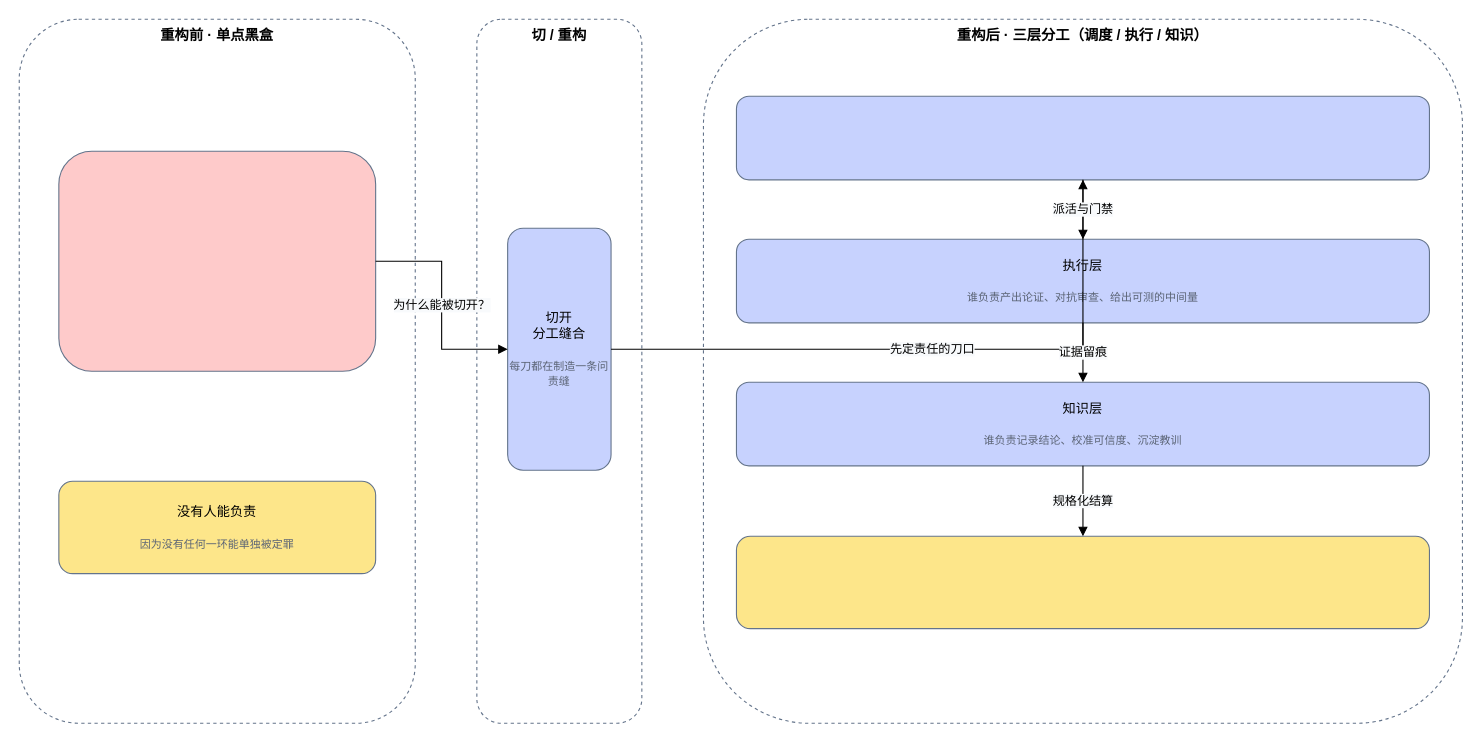
This 1482x743 diagram has some shape labels left out. Here are the shapes that lost their labels. From the top down, the centre of each, then its label:
point (1082, 137): 调度层 谁负责拆问题、选方案、把话派给谁
point (217, 260): 一次前向推理 理解 · 拆解 · 执行 · 自检 四环熔在一处，出错无法定位
point (1082, 582): 每一环都能被指认与复核 分工带来的不是更聪明，而是可问责——这是判断可管理的开关
